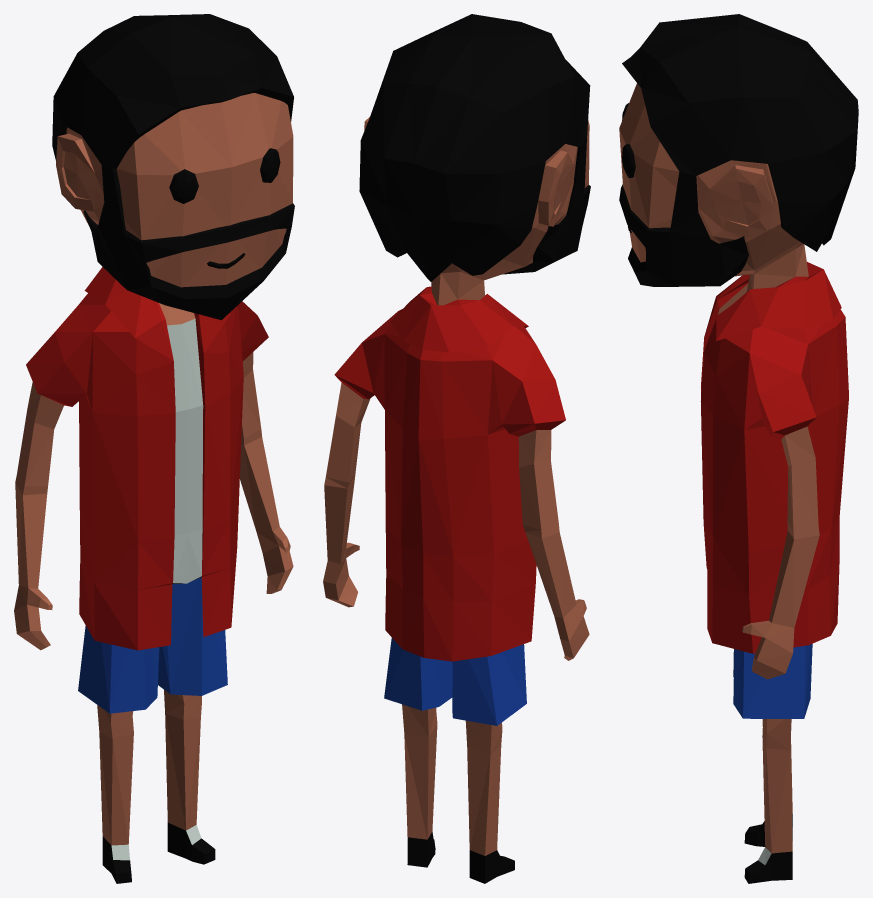
Rendered from Gene.LowPoly.obj.
3 views of the same model, side by side, from view 1: azimuth 30°, elevation 25°; view 2: azimuth 150°, elevation 25°; view 3: azimuth 270°, elevation 25° (orthographic). The views are drawn at different scales.
Parts seen in each view (by area): view 1: Gene_Cube_Flanny, Gene_Cube_Skin, Gene_Cube_Black.001, Gene_Cube_Pants, Gene_Cube_White; view 2: Gene_Cube_Flanny, Gene_Cube_Black.001, Gene_Cube_Skin, Gene_Cube_Pants; view 3: Gene_Cube_Flanny, Gene_Cube_Black.001, Gene_Cube_Skin, Gene_Cube_Pants.
Part boxes in pixels (x1=…): Gene_Cube_Flanny: x1=26, y1=267, x2=268, y2=650; Gene_Cube_Skin: x1=14, y1=93, x2=293, y2=845; Gene_Cube_Black.001: x1=52, y1=14, x2=294, y2=883; Gene_Cube_Pants: x1=78, y1=577, x2=227, y2=713; Gene_Cube_White: x1=111, y1=318, x2=203, y2=860; Gene_Cube_Flanny: x1=334, y1=286, x2=565, y2=661; Gene_Cube_Black.001: x1=359, y1=14, x2=590, y2=883; Gene_Cube_Skin: x1=323, y1=117, x2=589, y2=855; Gene_Cube_Pants: x1=384, y1=637, x2=526, y2=725; Gene_Cube_Flanny: x1=700, y1=262, x2=848, y2=653; Gene_Cube_Black.001: x1=619, y1=14, x2=858, y2=883; Gene_Cube_Skin: x1=619, y1=83, x2=819, y2=853; Gene_Cube_Pants: x1=733, y1=643, x2=812, y2=718.
Size of the model in its own units: 1.83 by 5.69 by 1.48.
